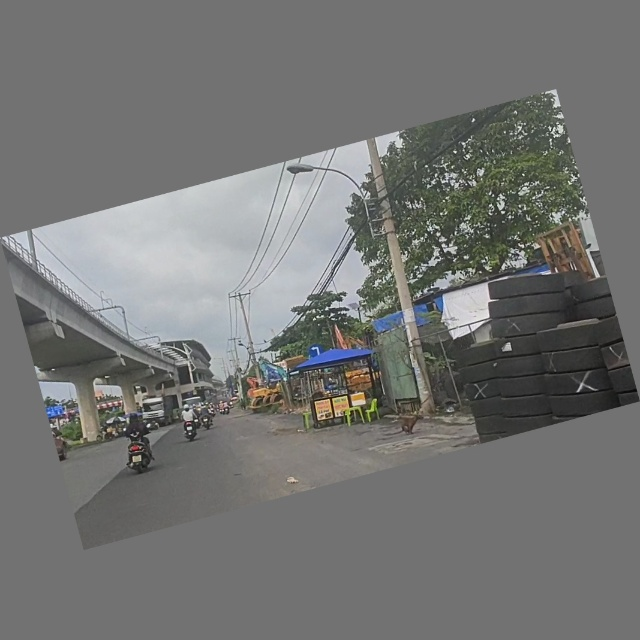R.301e: (307, 343, 324, 360)
